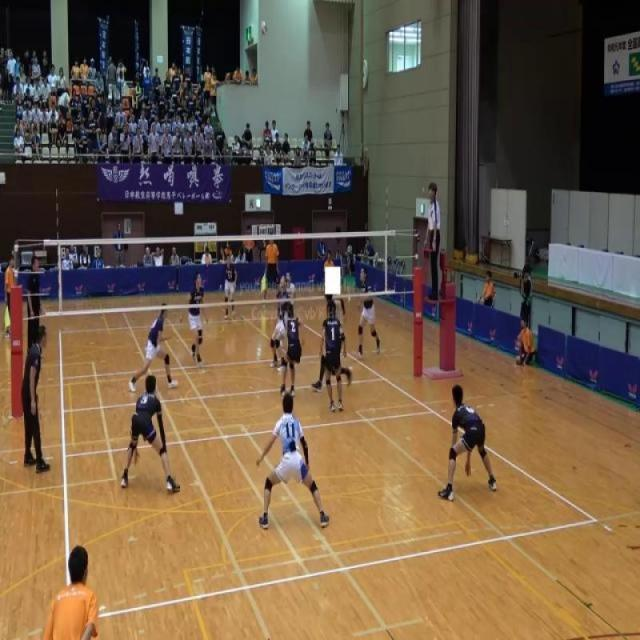volleyball: (260, 20, 268, 37)
